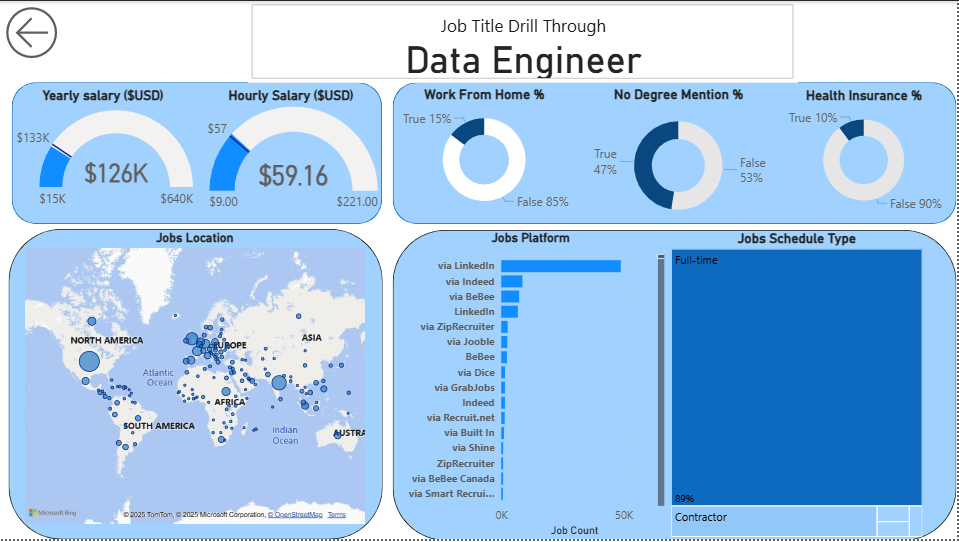

Layout of this report page (visuals, bound fields, positions):
{"tool":"powerbi","page":{"name":"Drill Through","canvas":[1280,720],"ordinal":1},"visuals":[{"type":"group","id":"g1","title":"Group 1","box":[12.2,108.7,1267.8,612],"z":0},{"type":"shape","box":[17.1,108.7,494.9,189.3],"z":0,"group":"g1"},{"type":"cardVisual","fields":{"Data":["Min(job_postings_flat.job_title_short)"]},"box":[331.7,0,734.6,109.4],"z":1000},{"type":"shape","box":[526.3,109.4,753.7,189.3],"z":1000,"group":"g1"},{"type":"actionButton","box":[0,0,135.5,85.1],"z":2000},{"type":"shape","box":[526.3,305.7,753.7,415.1],"z":2000,"group":"g1"},{"type":"gauge","title":"Hourly Salary ($USD)","fields":{"Y":["Median(job_postings_flat.salary_hour_avg)"],"MinValue":["Min(job_postings_flat.salary_hour_avg)1"],"MaxValue":["Max(job_postings_flat.salary_hour_avg)"],"TargetValue":["Avg(job_postings_flat.salary_hour_avg)2"]},"box":[264,116.4,248.3,173.7],"z":3000},{"type":"shape","box":[12.2,304.9,500.2,415.1],"z":3000,"group":"g1"},{"type":"gauge","title":"Yearly salary ($USD)","fields":{"Y":["Median(job_postings_flat.salary_year_avg)"],"MaxValue":["Max(job_postings_flat.salary_year_avg)"],"TargetValue":["Avg(job_postings_flat.salary_year_avg)1"],"MinValue":["Min(job_postings_flat.salary_year_avg)"]},"box":[12.2,116.4,251.8,173.7],"z":4000},{"type":"donutChart","title":"Work From Home %","fields":{"Y":["CountNonNull(job_postings_flat.job_work_from_home)"],"Category":["job_postings_flat.job_work_from_home"]},"box":[512.3,114.6,270.9,175.4],"z":5000},{"type":"donutChart","title":"No Degree Mention %","fields":{"Y":["CountNonNull(job_postings_flat.job_work_from_home)"],"Category":["job_postings_flat.job_no_degree_mention"]},"box":[783.2,114.6,246.6,191],"z":6000},{"type":"donutChart","title":"Health Insurance %","fields":{"Category":["job_postings_flat.job_health_insurance"],"Y":["CountNonNull(job_postings_flat.job_title_short)"]},"box":[1029.8,116.4,250.1,173.7],"z":7000},{"type":"map","title":"Jobs Location","fields":{"Category":["job_postings_flat.job_country"],"Size":["CountNonNull(job_postings_flat.job_title_short)"],"Series":["job_postings_flat.job_title_short"]},"box":[29,305.9,463.8,397.2],"z":8000},{"type":"barChart","title":"Jobs Platform","fields":{"Category":["job_postings_flat.job_via"],"Y":["CountNonNull(job_postings_flat.job_title_short)"]},"box":[526.2,305.7,366.4,415.1],"z":9000},{"type":"treemap","title":"Jobs Schedule Type","fields":{"Values":["CountNonNull(job_postings_flat.job_schedule_type)"],"Group":["job_postings_flat.job_schedule_type"]},"box":[892.6,305.7,345.6,415.1],"z":10000}]}

Visuals, with their boxes in screenshot pixels (x1, y1, x2, y2), scaled from the page's 1280x720 canvas onto the 959x542 screenshot:
"Group 1" group: [9,82,958,541]
shape: [13,82,384,224]
cardVisual - Min(job_postings_flat.job_title_short): [249,0,799,82]
shape: [394,82,958,225]
actionButton: [0,0,102,64]
shape: [394,230,958,541]
"Hourly Salary ($USD)" gauge: [198,88,384,218]
shape: [9,230,384,541]
"Yearly salary ($USD)" gauge: [9,88,198,218]
"Work From Home %" donutChart: [384,86,587,218]
"No Degree Mention %" donutChart: [587,86,772,230]
"Health Insurance %" donutChart: [772,88,958,218]
"Jobs Location" map: [22,230,369,529]
"Jobs Platform" barChart: [394,230,669,541]
"Jobs Schedule Type" treemap: [669,230,928,541]
